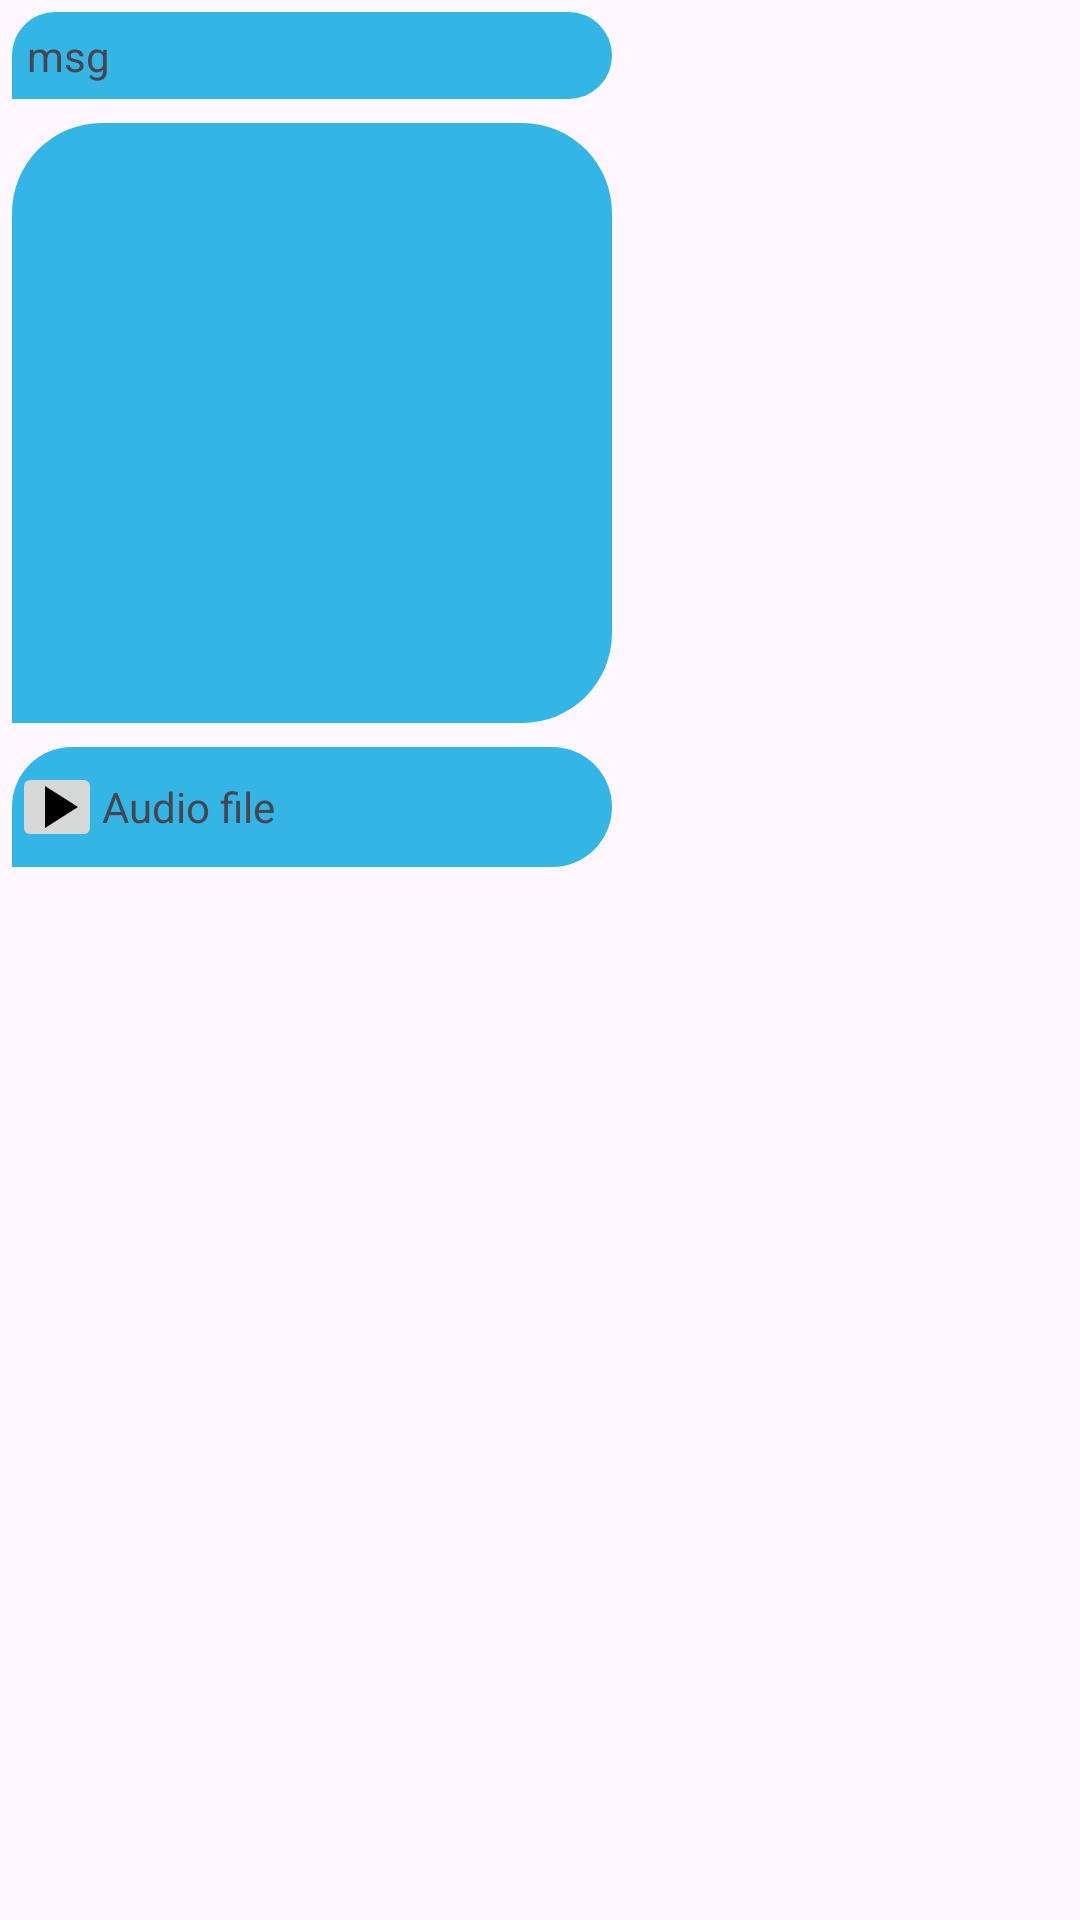

Where icons sit on this 1080px x 1920px app screen, as BBox(x1, y1, x2, y2):
play arrow: BBox(24, 780, 90, 834)
